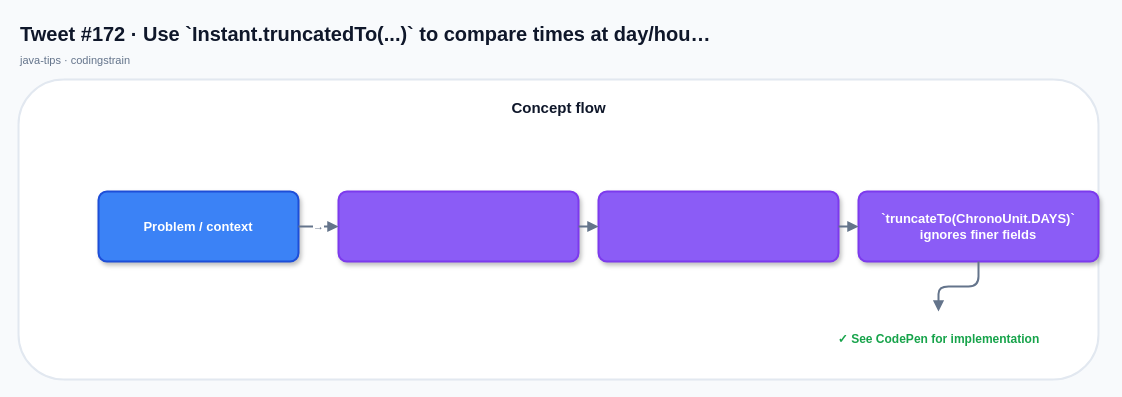
The diagram is 1122 pixels wide and 397 high, and some of its shapes have lost their labels. Here are the shapes that lost their labels. From the top down, the centre of each, then its label:
point (459, 227): 💡 Use `Instant.truncatedTo(...)` to compare times at day/hour/minute p
point (719, 227): Raw `Instant.equals` fails when nanos differ
